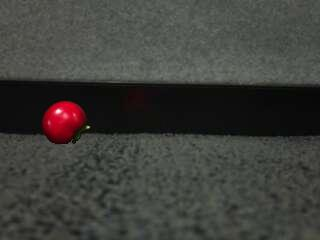Tomato: (41, 100, 94, 146)
